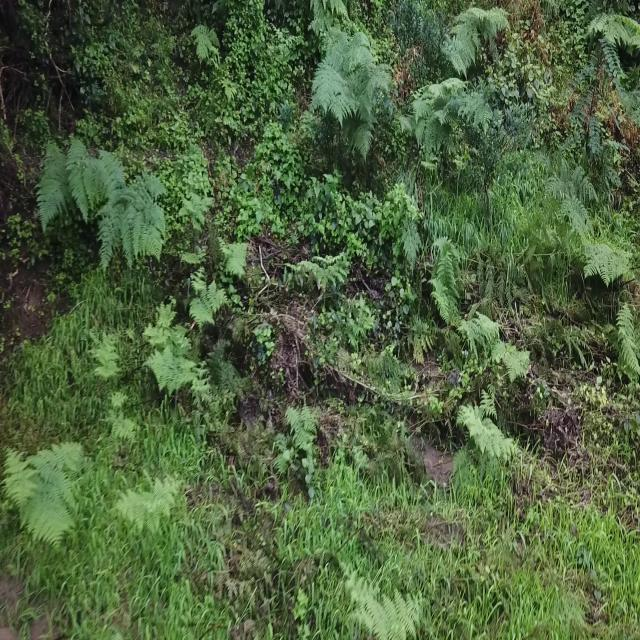Mysore-Thorn-Weed: (562, 17, 630, 180)
